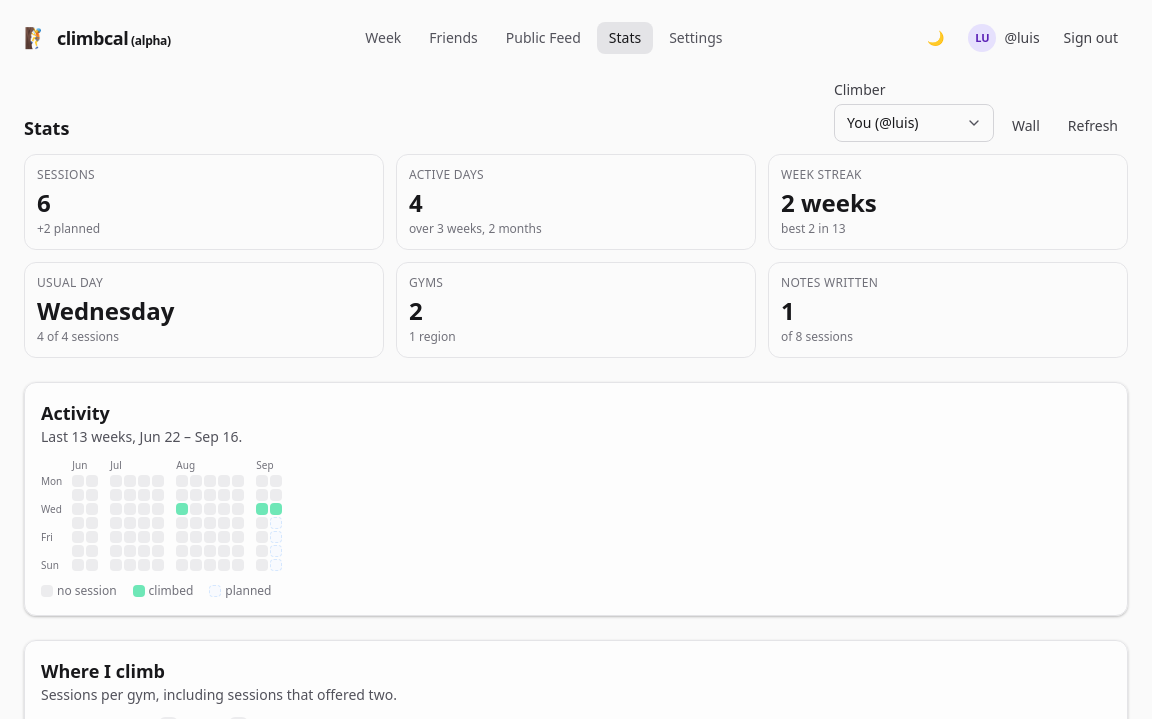
Test: <Stats /> › switches to a friend from the climber picker
Select "Mara (@mara)" in the dropdown labelled "Climber" at (914, 123), box [834,104,994,142]
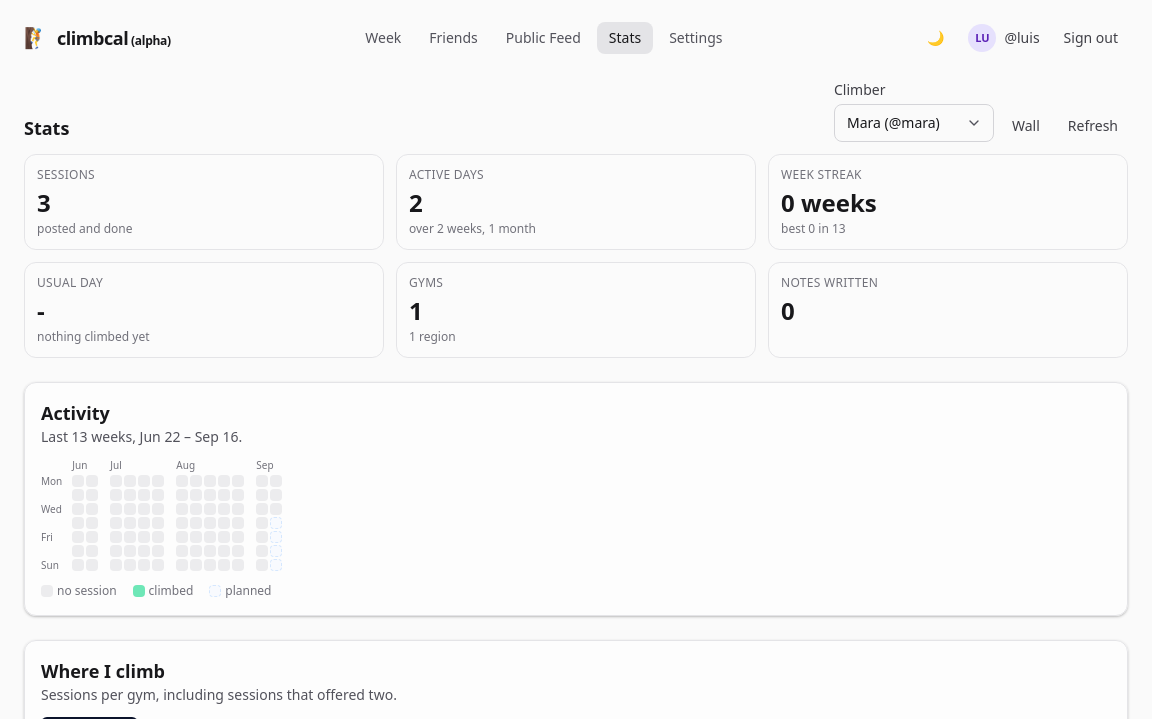
Now the text "posted and done" is shown, box [37,220,132,237]
Now the text "+2 planned" is gone
